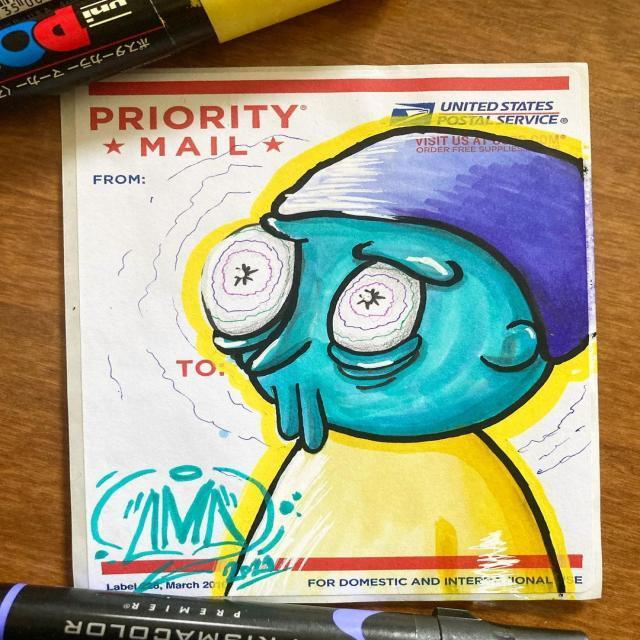-: (201, 100, 587, 597), (85, 455, 295, 585)
